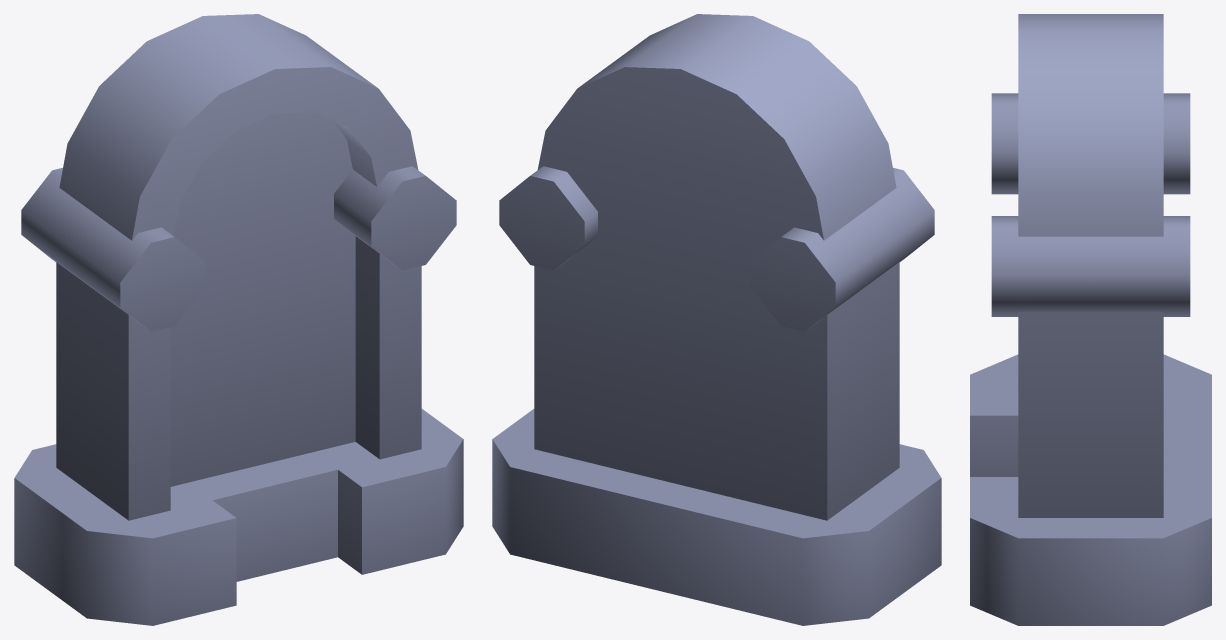
File: K_gravestone-round.glb
3 views of the same model, side by side, from view 1: azimuth 30°, elevation 25°; view 2: azimuth 150°, elevation 25°; view 3: azimuth 270°, elevation 25° (orthographic).
Parts seen in each view (by area): view 1: gravestone-round; view 2: gravestone-round; view 3: gravestone-round.
Boxes of the visible parts, bbox=[...] form: gravestone-round: bbox=[14, 14, 463, 625]; gravestone-round: bbox=[492, 14, 941, 625]; gravestone-round: bbox=[970, 14, 1211, 625].
Size of the model in its own units: 0.45 by 0.575 by 0.25.
